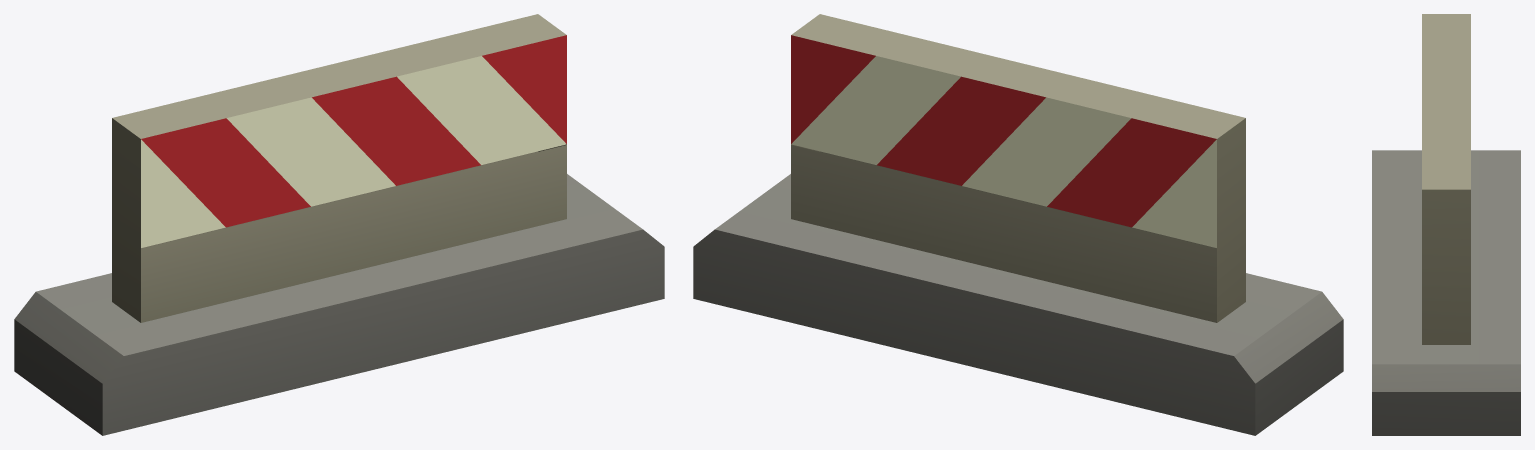
Rendered from End_of_the_Rail.fbx.
3 renders of one model, left to right at view 1: azimuth 30°, elevation 25°; view 2: azimuth 150°, elevation 25°; view 3: azimuth 270°, elevation 25°, orthographic. The views are drawn at different scales.
Visible parts, largest first — view 1: End_of_the_Rail; view 2: End_of_the_Rail; view 3: End_of_the_Rail.
Part boxes in pixels (x1,y1,x2,y2): End_of_the_Rail: (14, 14, 664, 435); End_of_the_Rail: (693, 14, 1343, 435); End_of_the_Rail: (1372, 14, 1520, 435).
Size of the model in its own units: 385 by 169 by 105.
